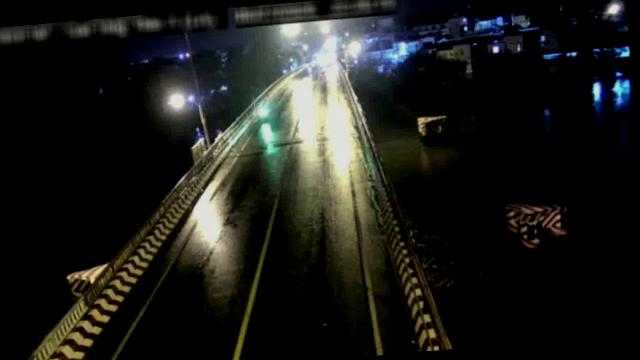Bike: (254, 102, 272, 121)
